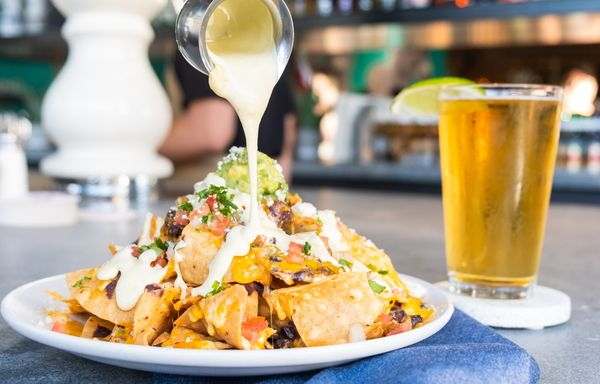pizza: (436, 82, 570, 325)
